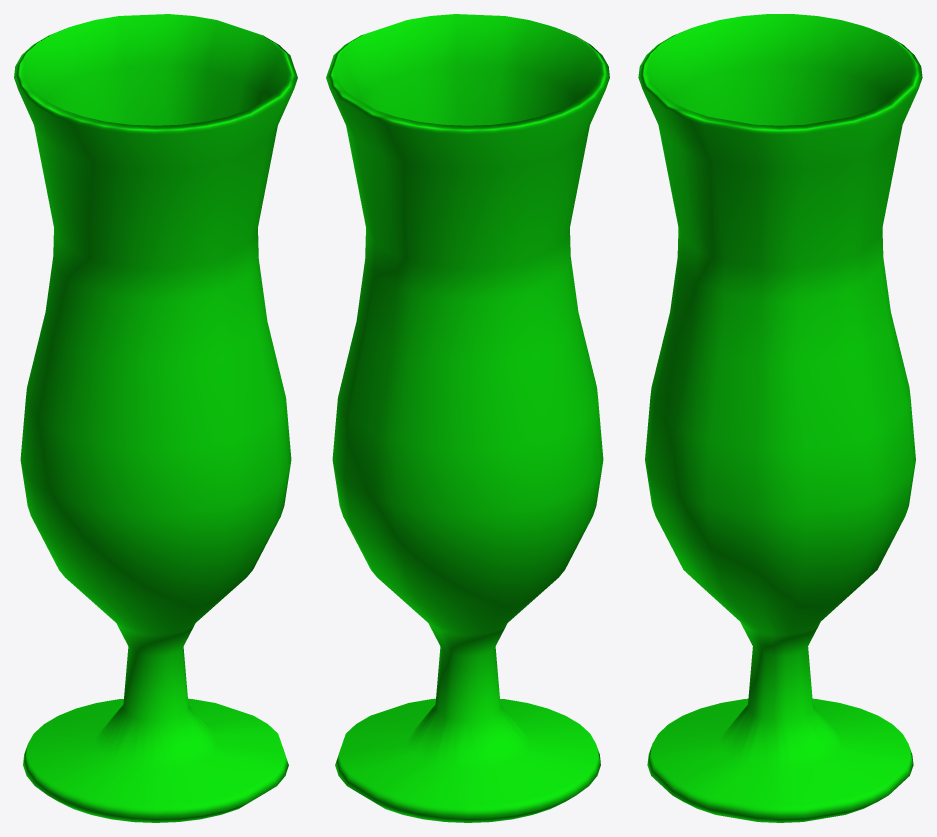
File: Glass3_LOD_2.fbx
3 views of the same model, side by side, from view 1: azimuth 30°, elevation 25°; view 2: azimuth 150°, elevation 25°; view 3: azimuth 270°, elevation 25° (orthographic).
Parts seen in each view (by area): view 1: Glass3_LOD_2; view 2: Glass3_LOD_2; view 3: Glass3_LOD_2.
Boxes of the visible parts, x1=… form: Glass3_LOD_2: x1=14, y1=14, x2=297, y2=822; Glass3_LOD_2: x1=326, y1=14, x2=609, y2=822; Glass3_LOD_2: x1=638, y1=14, x2=922, y2=822.
Bounding box in the file's own units: 1.02 × 2.83 × 1.02.
